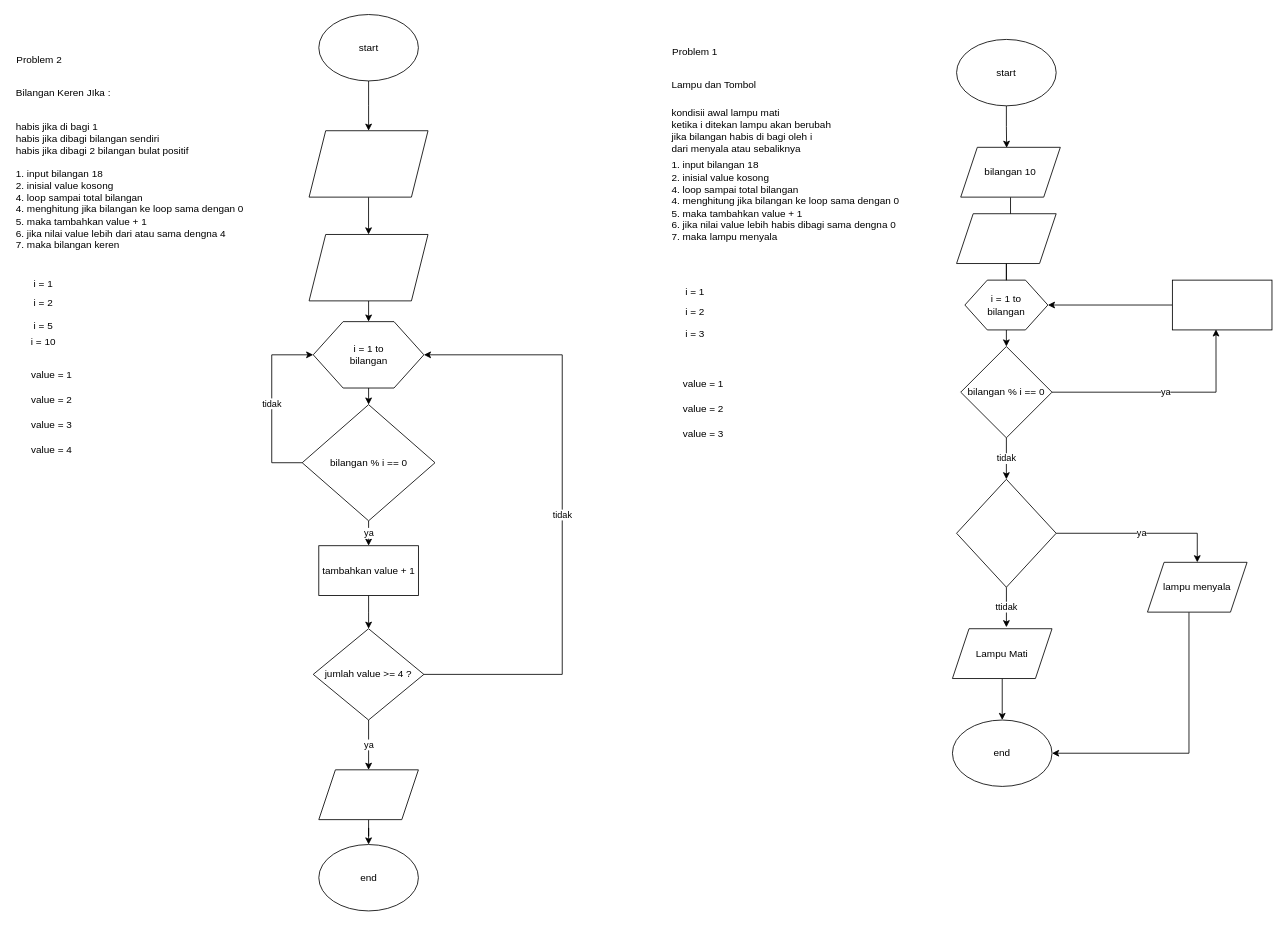
Some shapes in this 1287 by 925 pixel diagram are drawn without their labels. Each missing label, with the centre of its shape:
"bilangan keren" belongs at point 368,794.
"input bilangan = 10" belongs at point 368,163.
"input value = 0" belongs at point 368,267.
"tambah value + 1" belongs at point 1222,304.
"value % 2 == 0 ?" belongs at point 1006,532.
"value = 0" belongs at point 1006,238.
